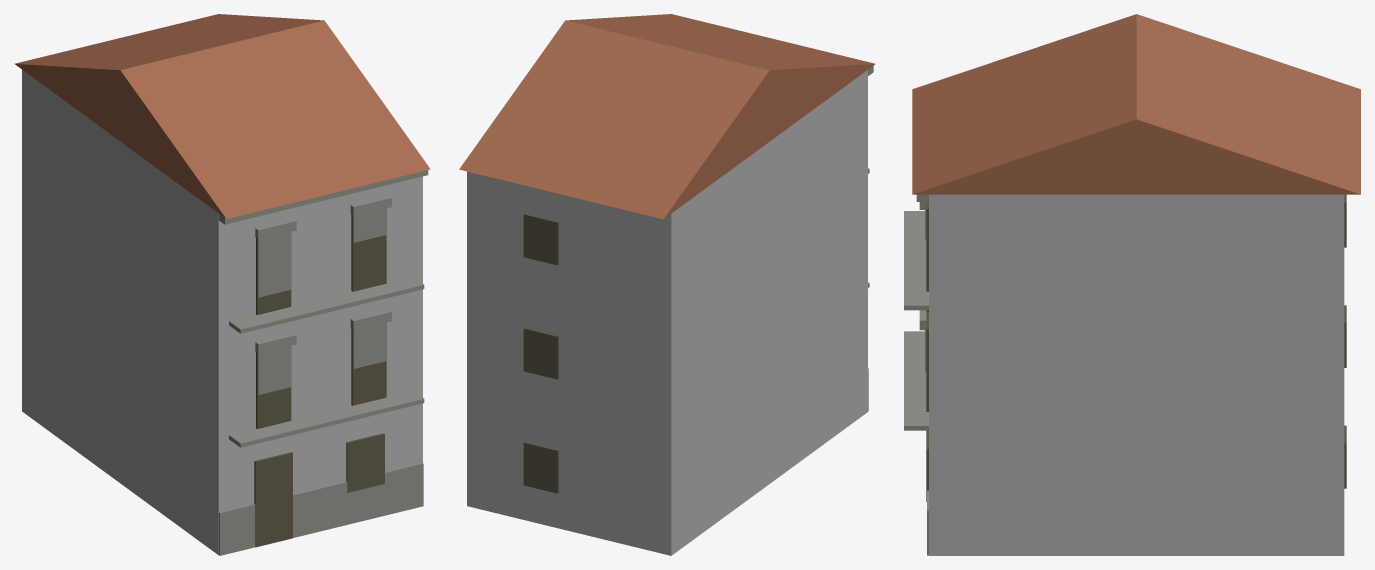
The model's file is SM_TresAlturas_v2_Gris_LOD1.fbx.
The picture shows the model from 3 angles, left to right: view 1: azimuth 30°, elevation 25°; view 2: azimuth 150°, elevation 25°; view 3: azimuth 270°, elevation 25°; orthographic projection. The views are drawn at different scales.
Parts seen in each view (by area): view 1: SM_pueblo_valenciano_v12_LOD1; view 2: SM_pueblo_valenciano_v12_LOD1; view 3: SM_pueblo_valenciano_v12_LOD1.
Boxes of the visible parts, left/top/right/bottom form: SM_pueblo_valenciano_v12_LOD1: left=14, top=14, right=430, bottom=555; SM_pueblo_valenciano_v12_LOD1: left=459, top=14, right=875, bottom=555; SM_pueblo_valenciano_v12_LOD1: left=904, top=14, right=1360, bottom=555.
Size of the model in its own units: 6 by 11.6 by 11.
